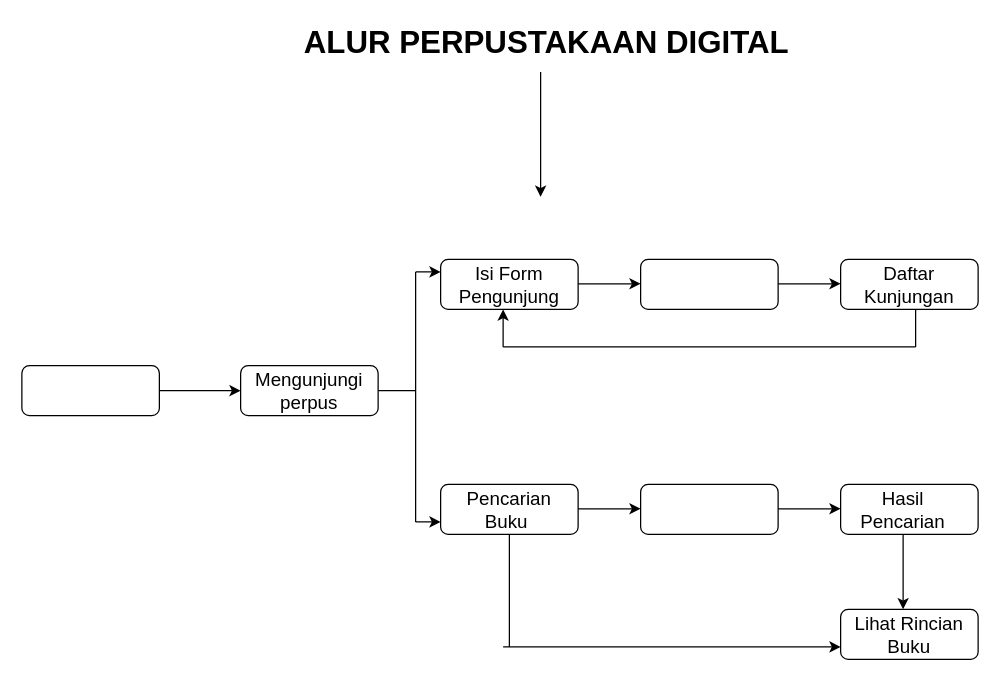
Image size: 1000x685. Some labels were removed from this diagram. Here are the shapes that lost their labels. From the top down, the centre of each, then its label:
At point 708,283: "Kirim".
At point 90,390: "User".
At point 708,508: "Isi Judul Buku".
